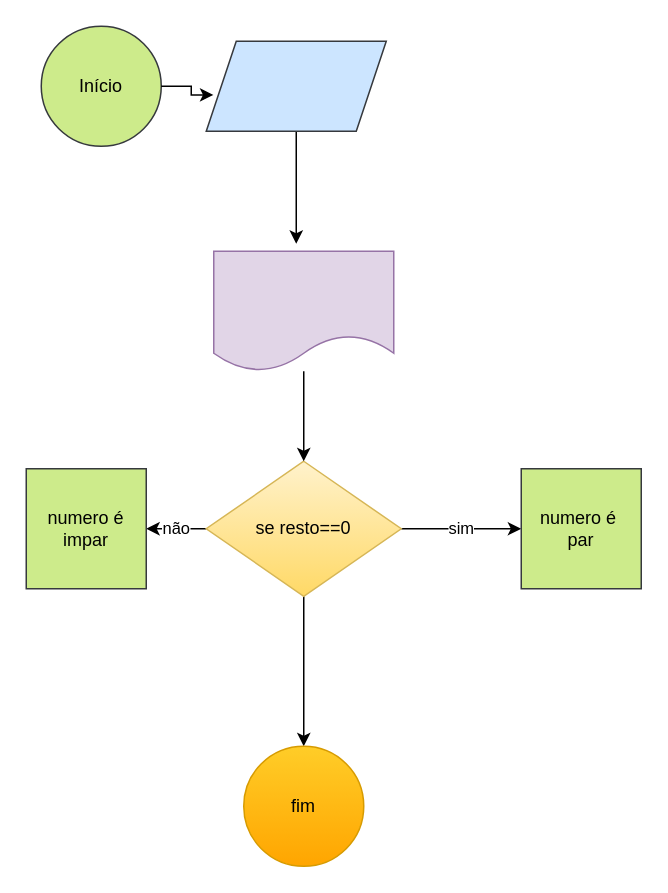
The diagram is 668 pixels wide and 893 high, and some of its shapes have lost their labels. Each missing label, with the centre of its shape:
Digite um número: the point at 295,85
resto=numero/2: the point at 303,310
